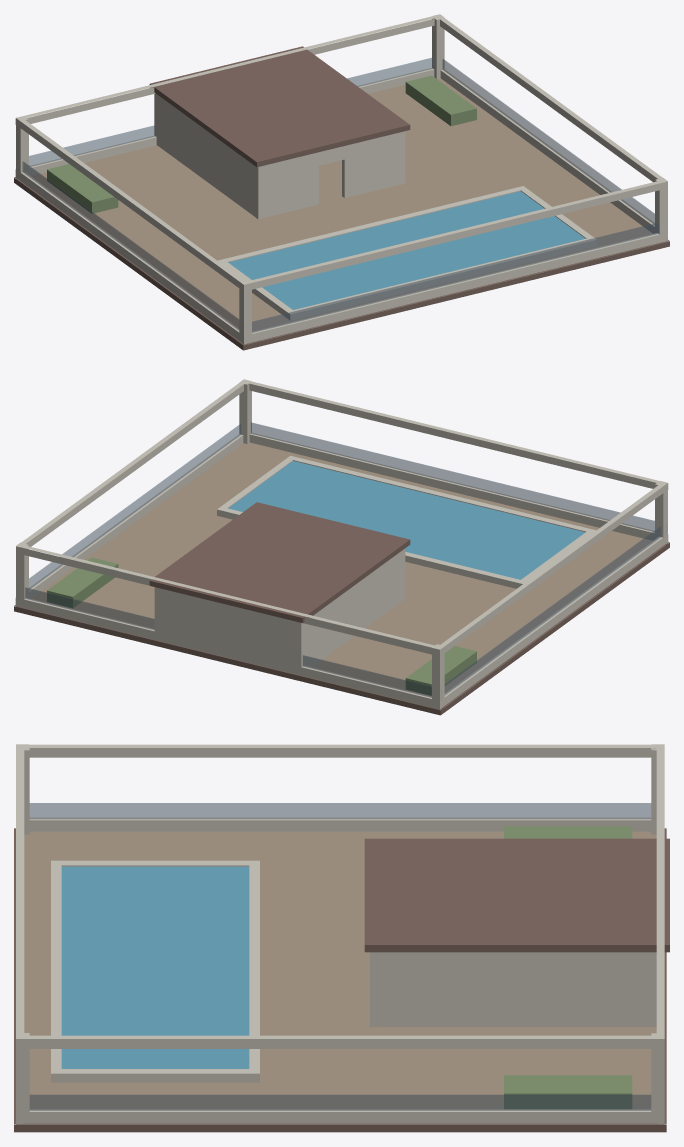
Rendered from brick-roof-b.glass-v1.lod1.glb.
The picture shows the model from 3 angles, top to bottom: view 1: azimuth 30°, elevation 25°; view 2: azimuth 150°, elevation 25°; view 3: azimuth 270°, elevation 25°; orthographic projection. The views are drawn at different scales.
Visible parts, largest first — view 1: brick-roof-b; view 2: brick-roof-b; view 3: brick-roof-b.
Boxes of the visible parts, bbox=[...] form: brick-roof-b: bbox=[14, 14, 669, 350]; brick-roof-b: bbox=[14, 379, 669, 715]; brick-roof-b: bbox=[14, 744, 669, 1132].
Size of the model in its own units: 26.16 by 3.84 by 24.48.
